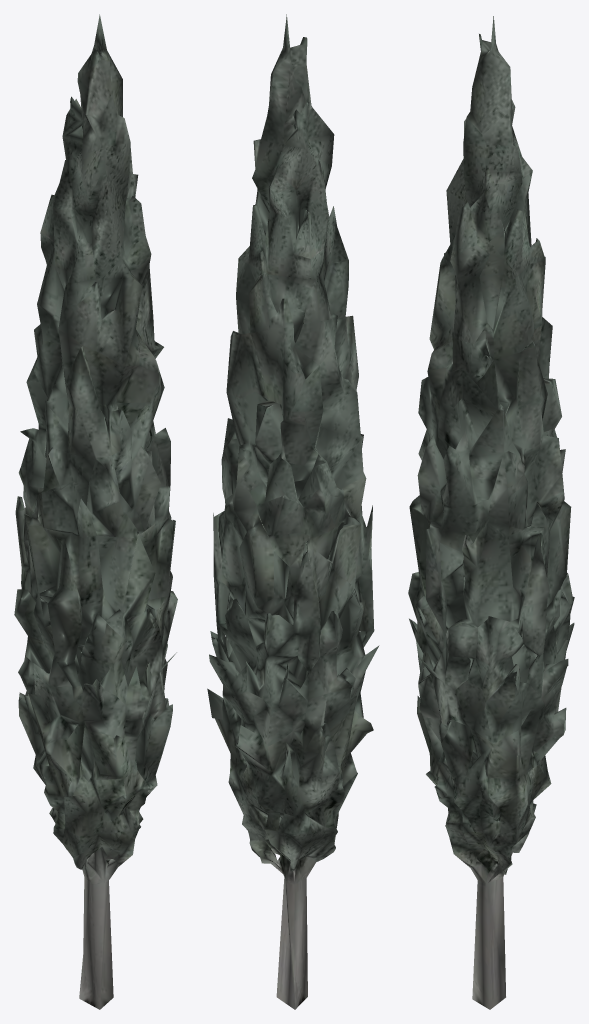
Rendered from terak.glb.
3 renders of one model, left to right at view 1: azimuth 30°, elevation 25°; view 2: azimuth 150°, elevation 25°; view 3: azimuth 270°, elevation 25°, orthographic.
Visible parts, largest first — view 1: tripo_node_3a1c48c0-960d-4a82-af87-ceb485ed4336; view 2: tripo_node_3a1c48c0-960d-4a82-af87-ceb485ed4336; view 3: tripo_node_3a1c48c0-960d-4a82-af87-ceb485ed4336.
Part boxes in pixels (bbox=[...]): tripo_node_3a1c48c0-960d-4a82-af87-ceb485ed4336: bbox=[14, 14, 177, 1009]; tripo_node_3a1c48c0-960d-4a82-af87-ceb485ed4336: bbox=[207, 14, 379, 1009]; tripo_node_3a1c48c0-960d-4a82-af87-ceb485ed4336: bbox=[408, 16, 574, 1009].
Bounding box in the file's own units: 0.152 × 0.9776 × 0.1491.
Materials: 1 (1 with a texture image).
